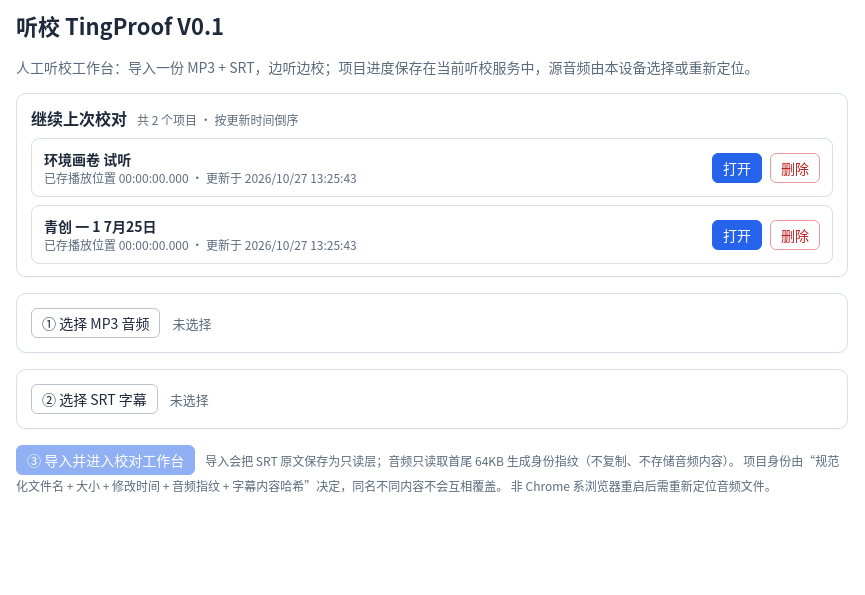
Test case: ImportScreen 删除历史记录（AC-066） › 失败保留条目并显示清晰错误，可重试成功
Click the button with aria-label "删除 环境画卷 试听".
click(795, 168)  # box 770,152 -> 820,182
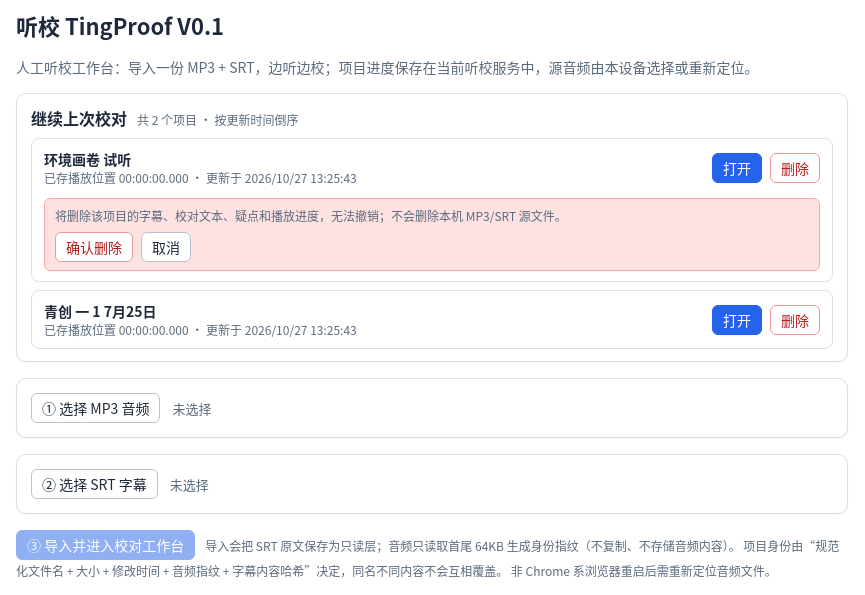
Click the button with aria-label "确认删除 环境画卷 试听".
click(94, 247)  # box 55,232 -> 133,262
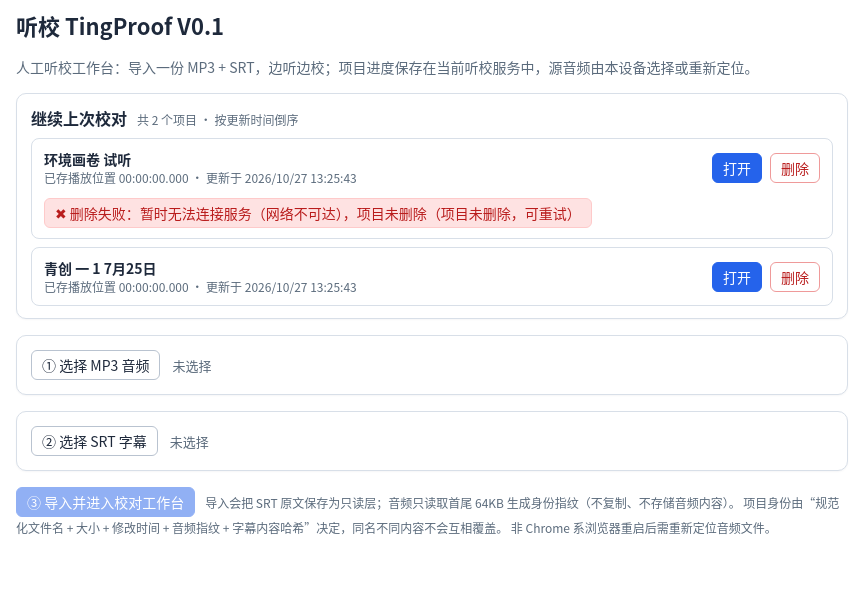
Expected: the number of list items is 2, 31,138 -> 833,239; 31,247 -> 833,306
Expected: the message shows "删除失败", 55,203 -> 140,223
Expected: the message shows "项目未删除，可重试", 427,203 -> 581,223
Note: 重试成功（真实实现）：条目移除、错误清除。
Click the button with aria-label "删除 环境画卷 试听".
click(795, 168)  # box 770,152 -> 820,182
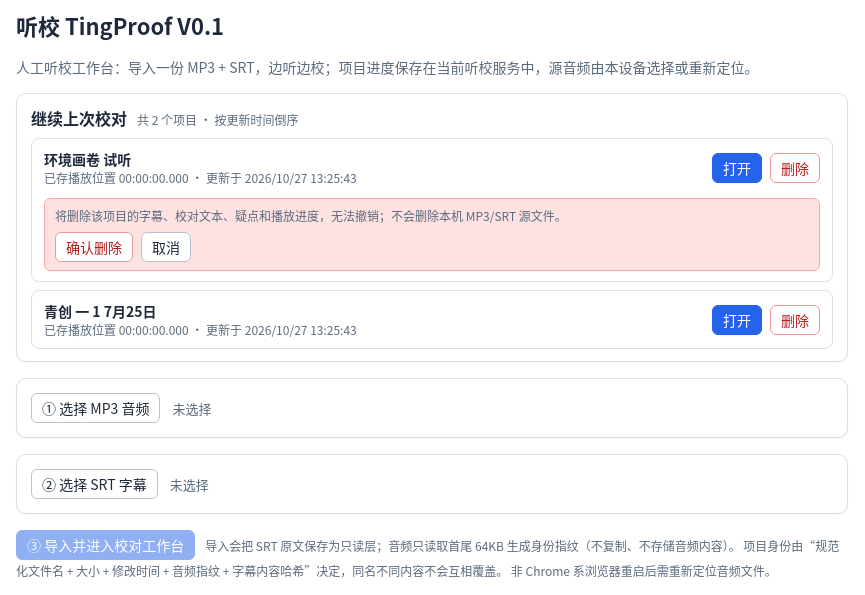
Click the button with aria-label "确认删除 环境画卷 试听".
click(94, 247)  # box 55,232 -> 133,262
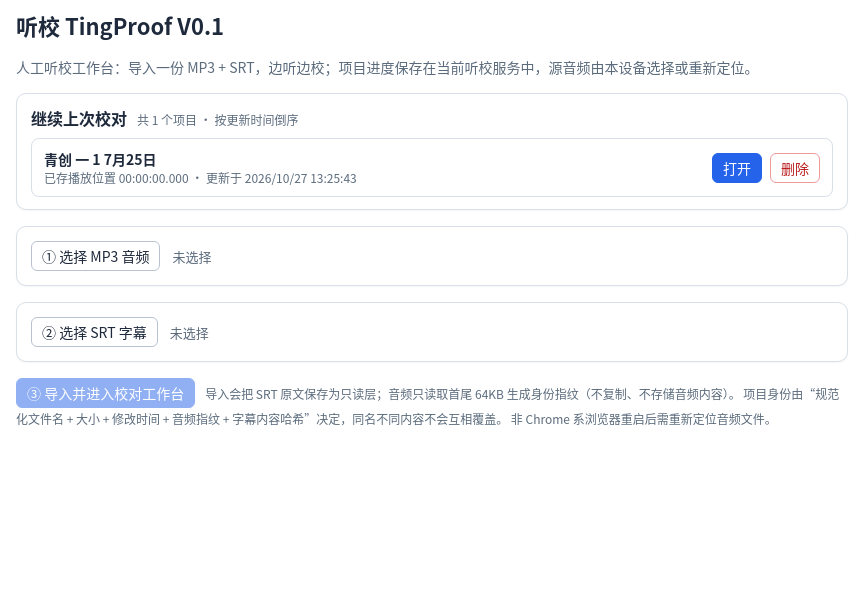
Expected: the message "✖ 删除失败：暂时无法连接服务（网络不可达），项目未删除（项目未删除，可重试）" is not shown
Expected: the number of list items is 1, 31,138 -> 833,197
